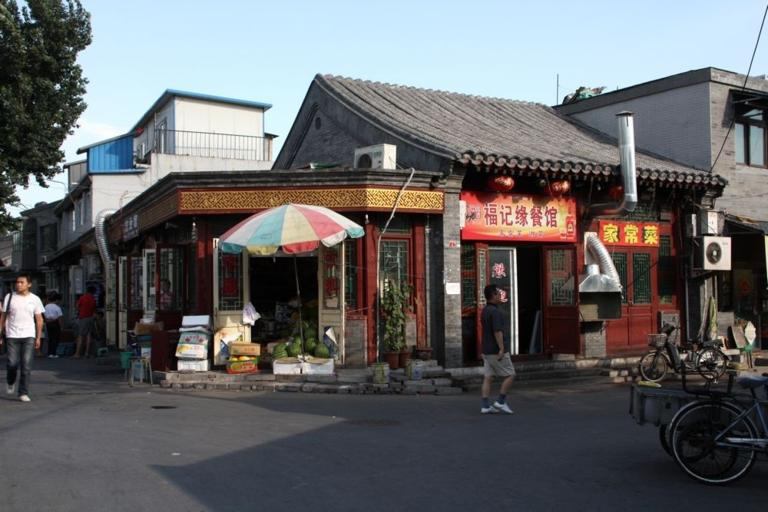non-vehicle: (666, 374, 767, 484), (638, 321, 729, 383), (119, 328, 141, 357)
